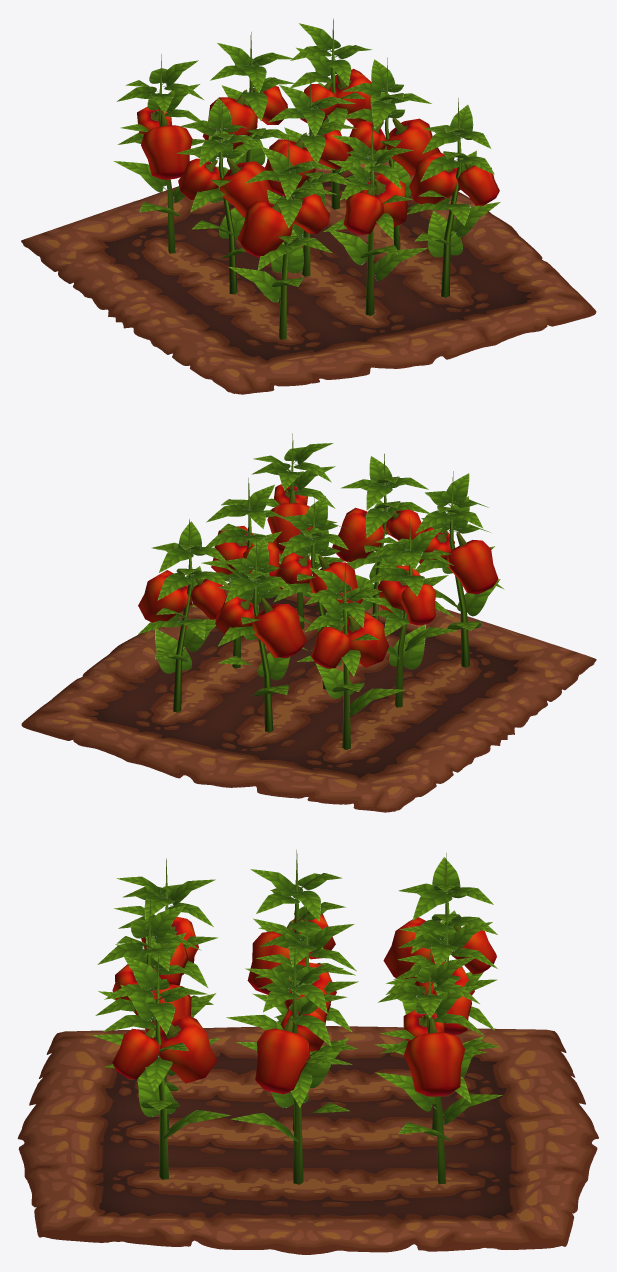
File: BellPepper_Field_Red_Lv3.FBX
The picture shows the model from 3 angles, top to bottom: view 1: azimuth 30°, elevation 25°; view 2: azimuth 150°, elevation 25°; view 3: azimuth 270°, elevation 25°; orthographic projection. The views are drawn at different scales.
Visible parts, largest first — view 1: BellPepper_Field_Red_Lv3; view 2: BellPepper_Field_Red_Lv3; view 3: BellPepper_Field_Red_Lv3.
Boxes of the visible parts, bbox=[...] form: BellPepper_Field_Red_Lv3: bbox=[21, 18, 596, 394]; BellPepper_Field_Red_Lv3: bbox=[21, 433, 596, 812]; BellPepper_Field_Red_Lv3: bbox=[17, 850, 598, 1254].
Size of the model in its own units: 274 by 134 by 296.
